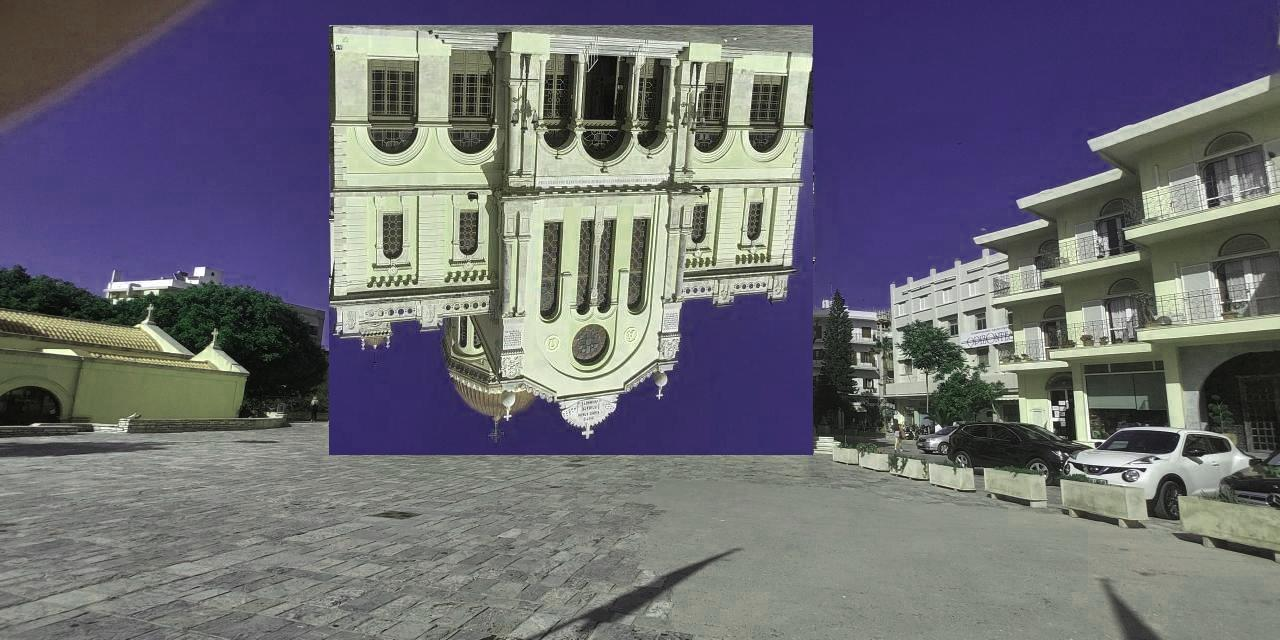Agios Minas: (330, 26, 814, 456)
